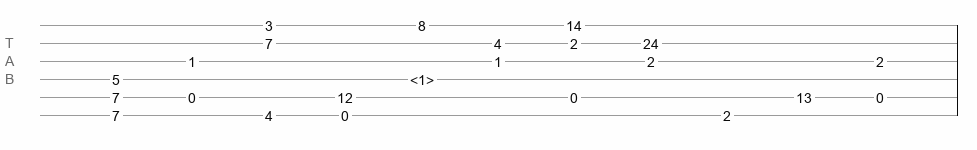0: (188, 90, 196, 100), (341, 108, 349, 118), (570, 90, 578, 100), (876, 90, 884, 100)
1: (188, 54, 196, 64), (494, 54, 502, 64)
12: (337, 90, 353, 100)
13: (796, 90, 812, 100)
14: (566, 18, 582, 28)
2: (570, 36, 578, 46), (647, 54, 655, 64), (723, 108, 731, 118), (876, 54, 884, 64)
24: (643, 36, 659, 46)
3: (265, 18, 273, 28)
4: (265, 108, 273, 118), (494, 36, 502, 46)
5: (112, 72, 120, 82)
7: (112, 108, 120, 118), (112, 90, 120, 100), (265, 36, 273, 46)
8: (418, 18, 426, 28)
harmonic: (410, 72, 434, 82)
